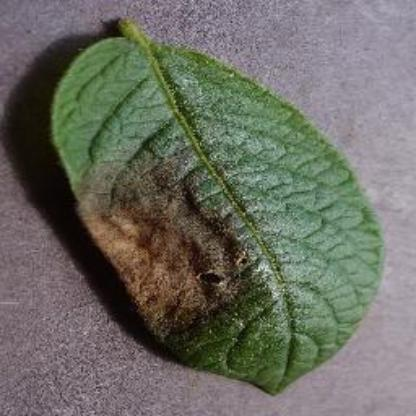Late-Blight: (40, 10, 390, 394)
